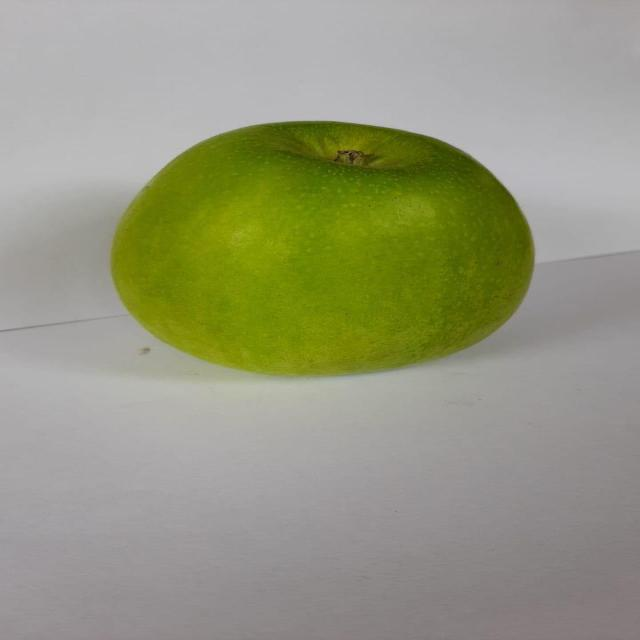Rotten Apple: (95, 109, 547, 385)
